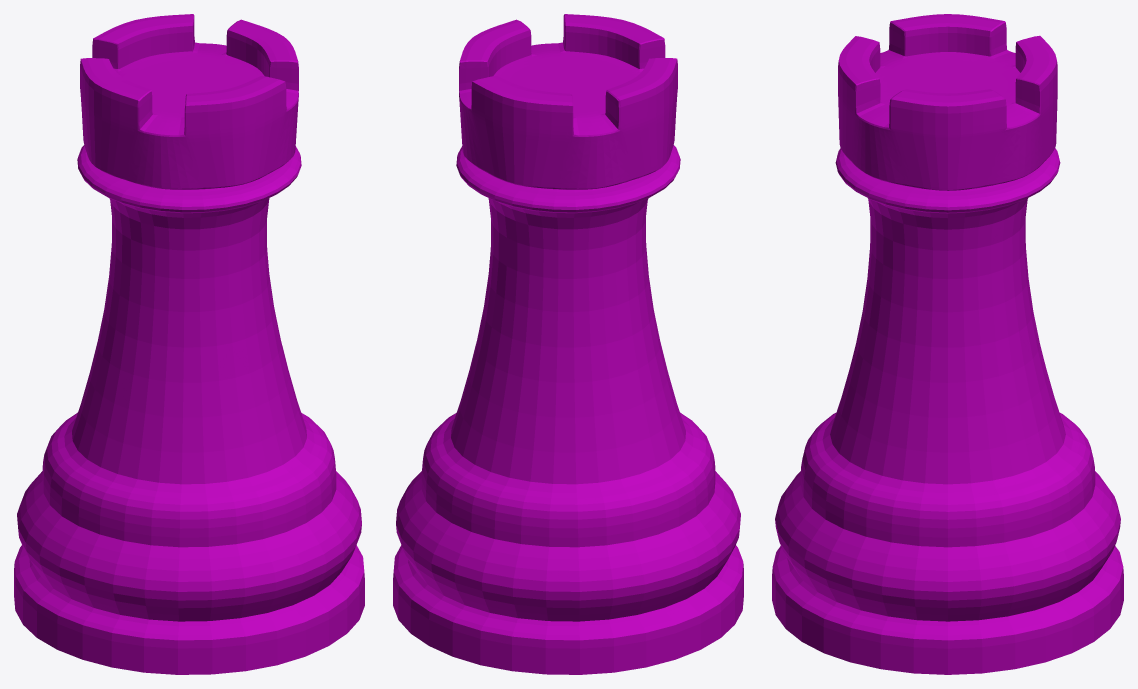
File: rook_b.gltf
3 views of the same model, side by side, from view 1: azimuth 30°, elevation 25°; view 2: azimuth 150°, elevation 25°; view 3: azimuth 270°, elevation 25° (orthographic).
Visible parts, largest first — view 1: Rook; view 2: Rook; view 3: Rook.
Part boxes in pixels (x1,y1,x2,y2): Rook: [14, 14, 364, 674]; Rook: [393, 14, 743, 674]; Rook: [772, 14, 1123, 674].
Size of the model in its own units: 0.581 by 0.9861 by 0.581.
